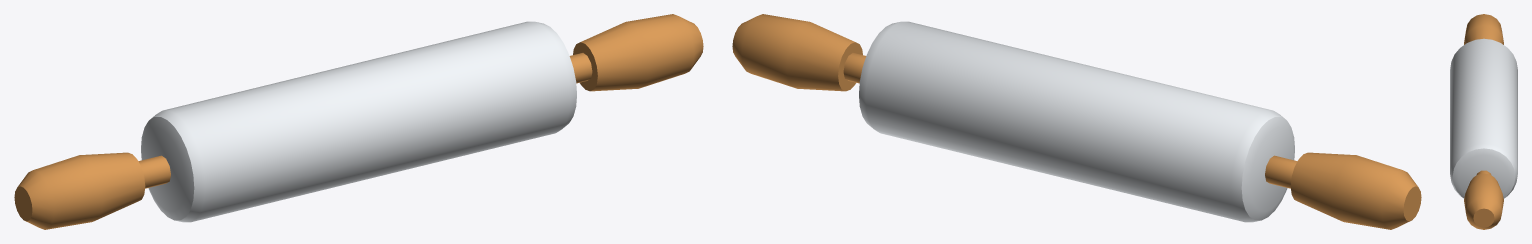
File: rolo_massa_marmore.glb
3 views of the same model, side by side, from view 1: azimuth 30°, elevation 25°; view 2: azimuth 150°, elevation 25°; view 3: azimuth 270°, elevation 25° (orthographic). The views are drawn at different scales.
Parts seen in each view (by area): view 1: rolo_massa_marmore; view 2: rolo_massa_marmore; view 3: rolo_massa_marmore.
Boxes of the visible parts, <box> form: rolo_massa_marmore: <box>14,14,703,229</box>; rolo_massa_marmore: <box>732,14,1421,229</box>; rolo_massa_marmore: <box>1450,14,1517,229</box>.
Bounding box in the file's own units: 0.43 × 0.064 × 0.064.
1 material, 1 textured.
